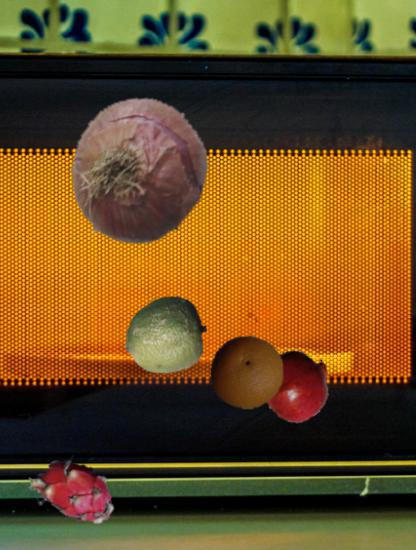Limes: (124, 294, 207, 377)
Onion: (63, 97, 213, 247)
Orange: (209, 334, 285, 410)
Pitahaya: (28, 446, 119, 537)
Pomegranate: (261, 350, 332, 421)
